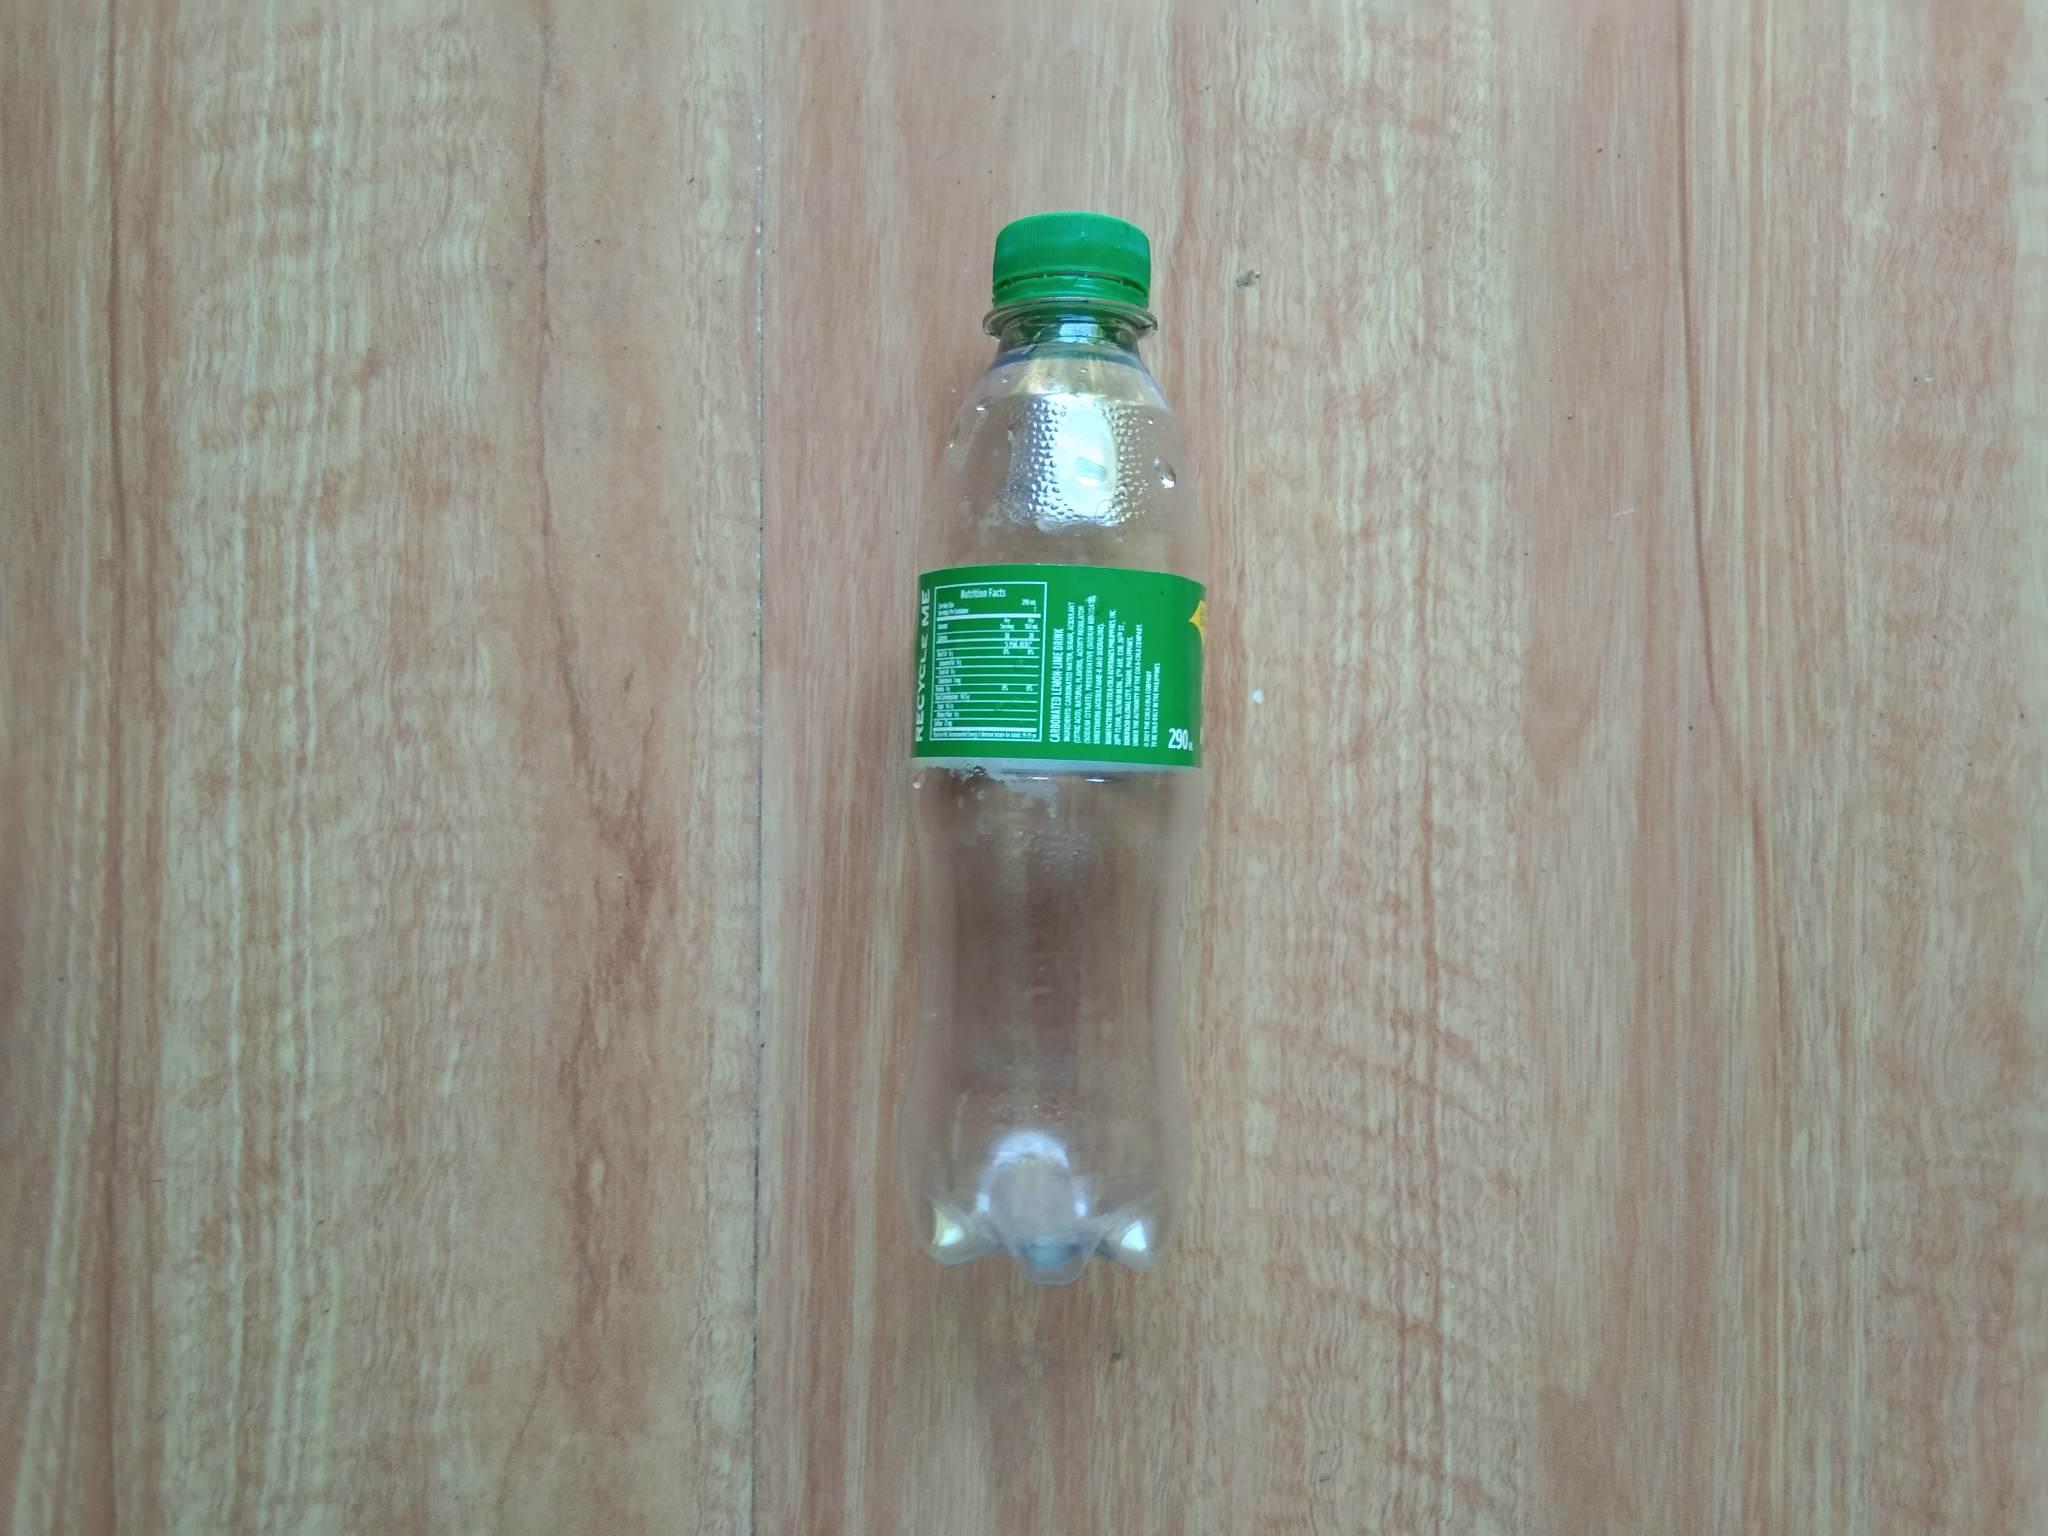plastic: (627, 161, 1488, 1376)
